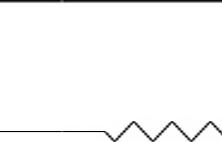resistor: (95, 109, 218, 140)
